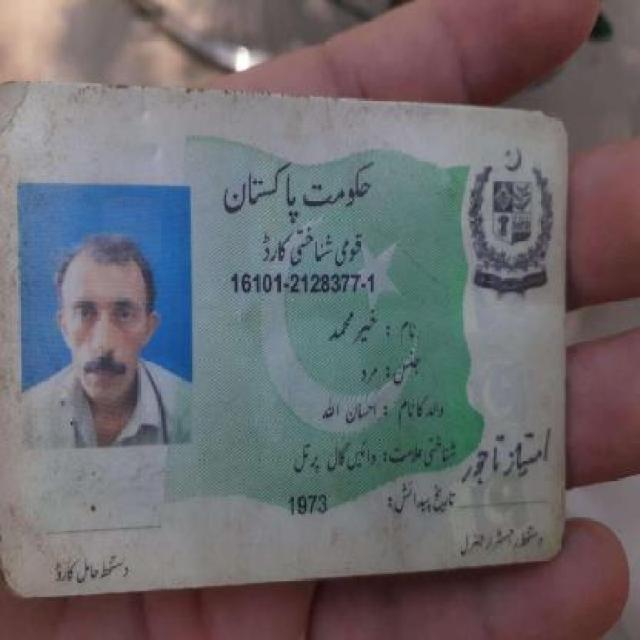Front: (3, 76, 571, 606)
